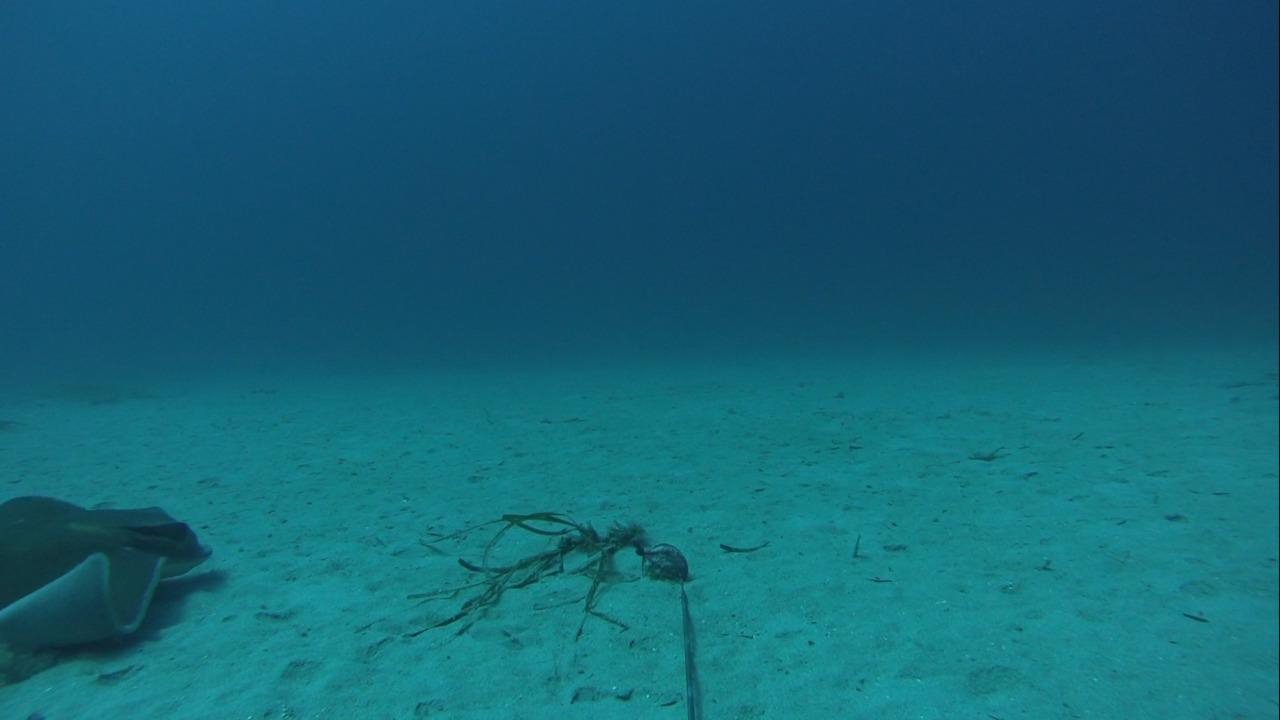myliobatis: (1, 490, 218, 663)
